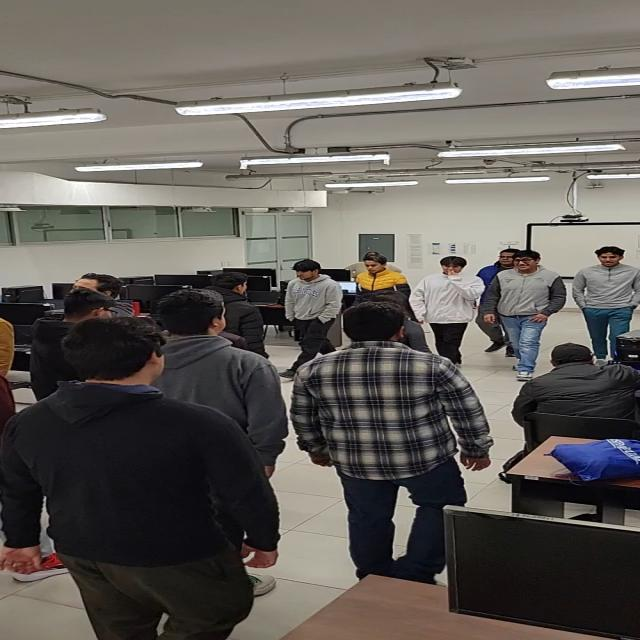Persona: (3, 317, 281, 640), (292, 298, 486, 588), (482, 248, 561, 383), (573, 243, 640, 365), (276, 256, 342, 362), (419, 256, 473, 366)
